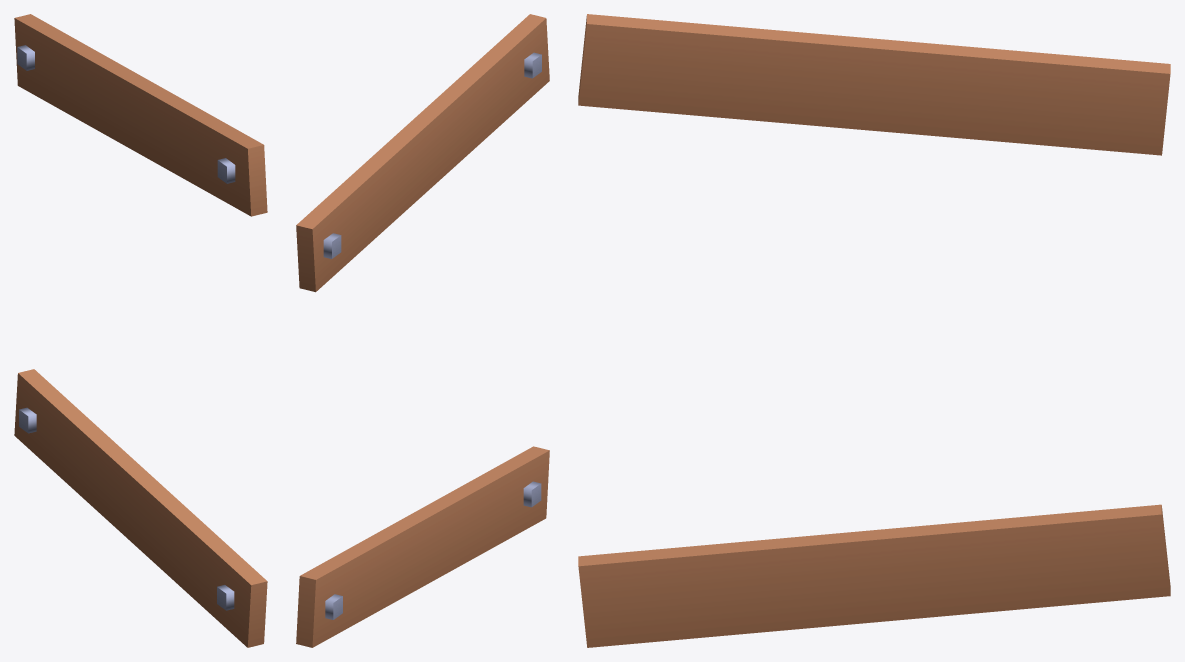
Rendered from building_barricade_cngrlrejee.glb.
3 views of the same model, side by side, from view 1: azimuth 30°, elevation 25°; view 2: azimuth 150°, elevation 25°; view 3: azimuth 270°, elevation 25° (orthographic). The views are drawn at different scales.
Visible parts, largest first — view 1: barricade-doorway-a; view 2: barricade-doorway-a; view 3: barricade-doorway-a.
Part boxes in pixels (left/top/right/bottom): barricade-doorway-a: left=14, top=14, right=267, bottom=647; barricade-doorway-a: left=296, top=14, right=549, bottom=647; barricade-doorway-a: left=578, top=14, right=1170, bottom=647.
Size of the model in its own units: 0.075 by 1.46 by 1.26.
1 material, 1 textured.
